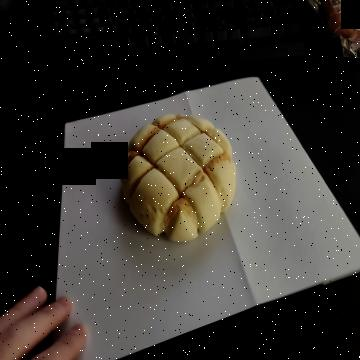melon_bread: (119, 112, 237, 241)
